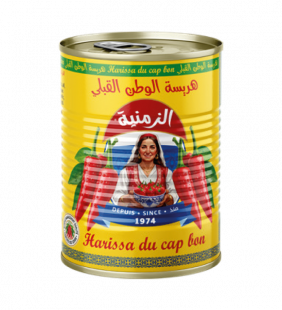ZEMNIA: (58, 30, 224, 280)
